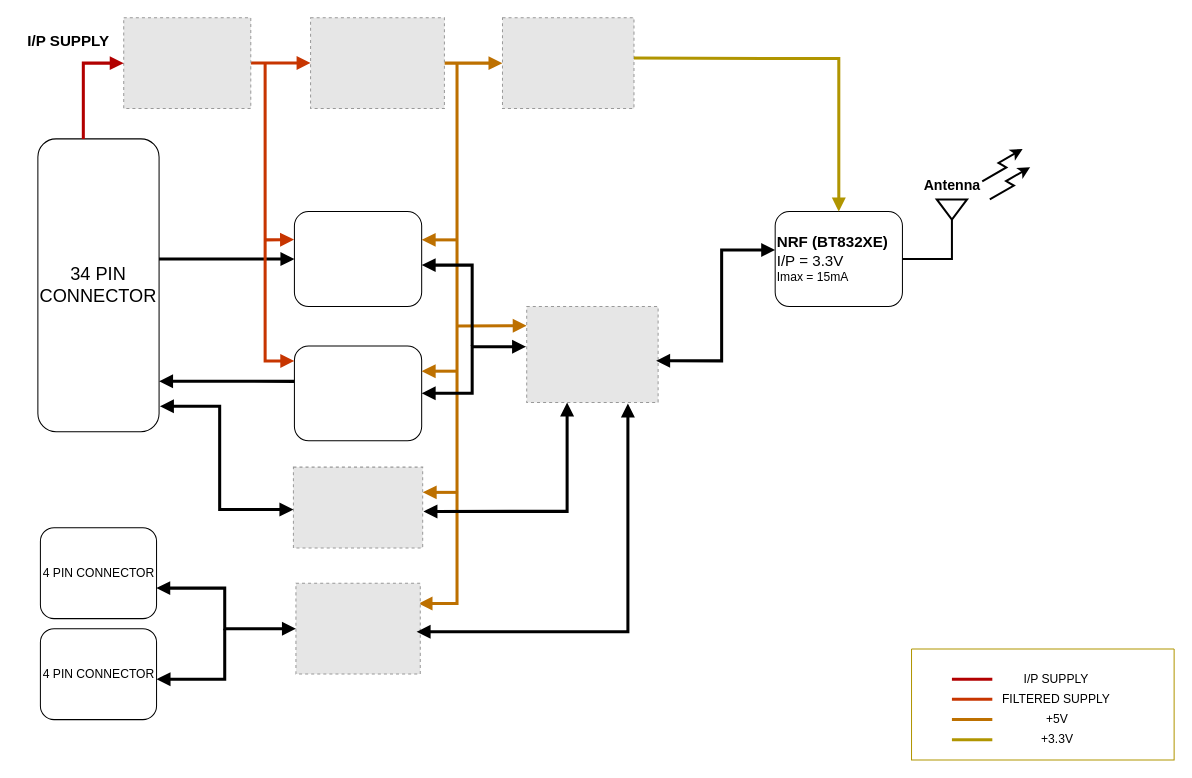
Image size: 1192x778. Some labels were removed from this diagram. Grey dashed boxes stand in for pictures. Here are the shapes that lost their labels. From the top down, the centre of each, then its label:
At point 357,259: "MC 33972 I/P IC VLOGIC =5V VBAT = 40 V(MAX) Imax=5mA".
At point 357,393: "MC 33996 O/P IC VLOGIC =5V Vpower = 50 V(MAX) Imax=10mA".
